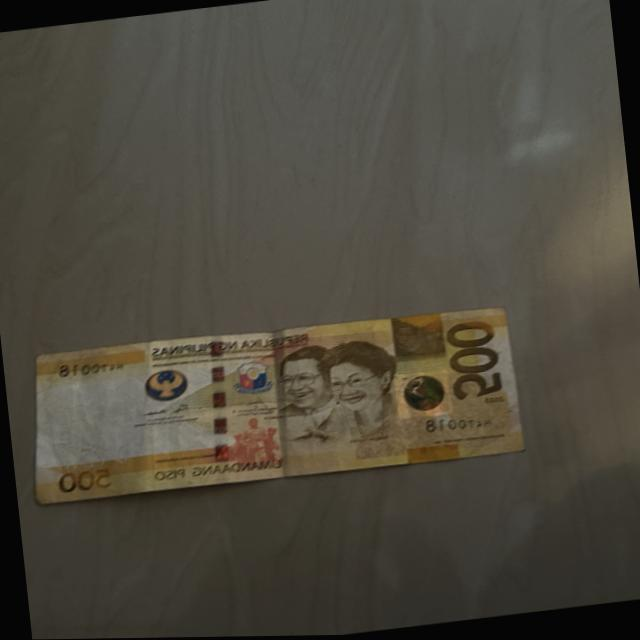concealed_value: (394, 312, 444, 359)
optically_variable_device: (400, 372, 448, 412)
value: (435, 324, 529, 404)
